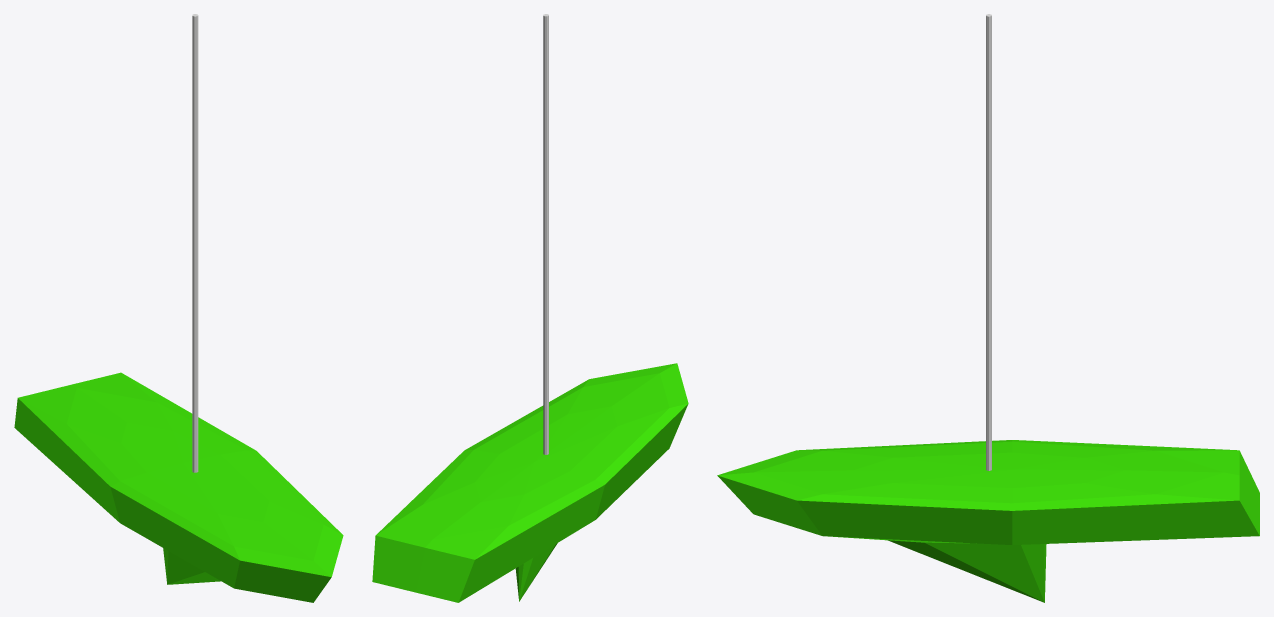
Rendered from boat2.glb.
3 renders of one model, left to right at view 1: azimuth 30°, elevation 25°; view 2: azimuth 150°, elevation 25°; view 3: azimuth 270°, elevation 25°, orthographic. The views are drawn at different scales.
Parts seen in each view (by area): view 1: Sphere, Cylinder; view 2: Sphere, Cylinder; view 3: Sphere, Cylinder.
Part boxes in pixels (<box>): Sphere: <box>14,372,343,602</box>; Cylinder: <box>192,14,198,472</box>; Sphere: <box>372,363,688,602</box>; Cylinder: <box>543,14,548,454</box>; Sphere: <box>717,440,1259,602</box>; Cylinder: <box>986,14,991,470</box>.
Bounding box in the file's own units: 3.96 × 15.26 × 12.78.
